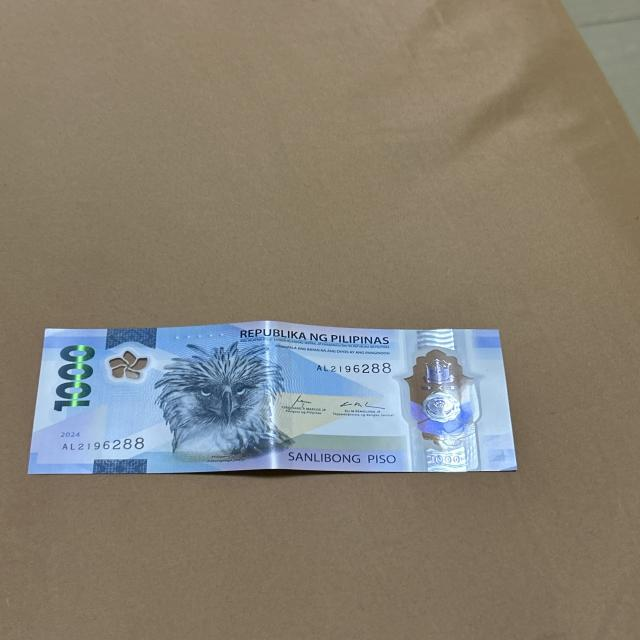clear_window: (399, 343, 478, 458)
eagle: (158, 344, 286, 461)
sampaguita: (107, 349, 150, 385)
